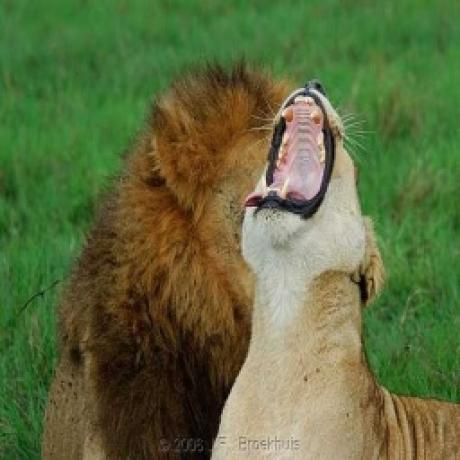Lion: (35, 51, 290, 460), (212, 77, 460, 460)
